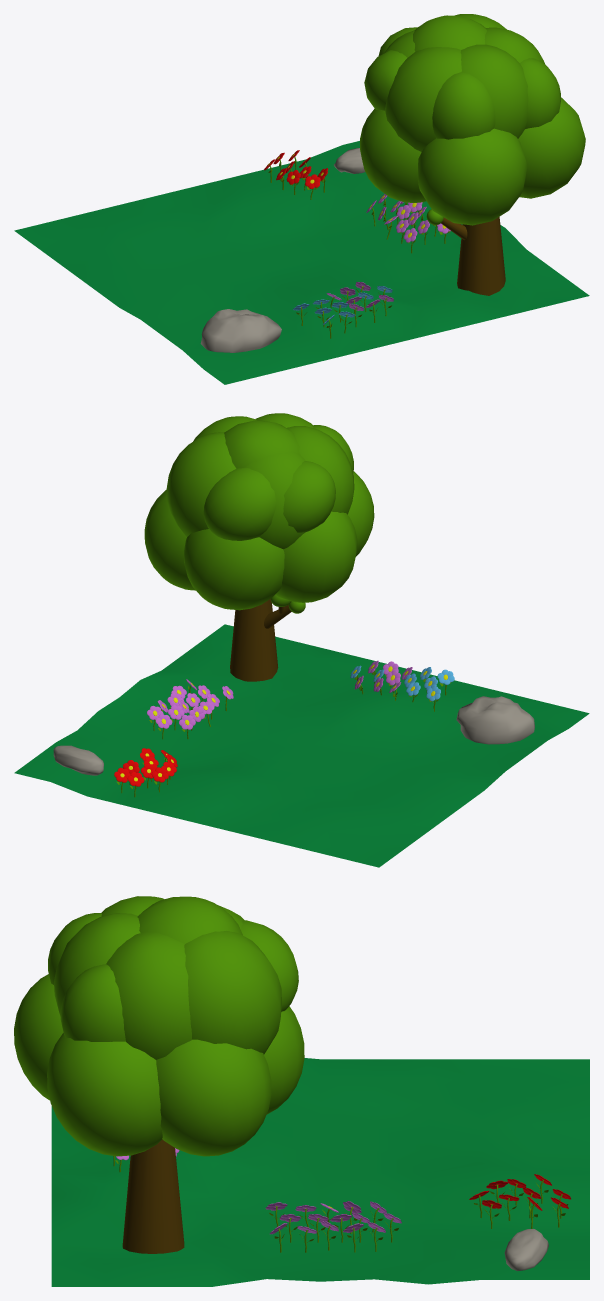
The model's file is Escenario Verde 1.fbx.
The picture shows the model from 3 angles, top to bottom: view 1: azimuth 30°, elevation 25°; view 2: azimuth 150°, elevation 25°; view 3: azimuth 270°, elevation 25°; orthographic projection. The views are drawn at different scales.
Parts seen in each view (by area): view 1: pasto, pCylinder4, pSphere23, polySurface43; view 2: pasto, pCylinder4, pSphere23, polySurface43; view 3: pasto, pCylinder4, pSphere23.
Part boxes in pixels (x1,y1,x2,y2): pasto: [14, 141, 589, 384]; pCylinder4: [360, 14, 585, 295]; pSphere23: [200, 148, 365, 352]; polySurface43: [293, 282, 393, 338]; pasto: [14, 624, 589, 867]; pCylinder4: [144, 413, 374, 681]; pSphere23: [53, 696, 534, 775]; polySurface43: [350, 660, 454, 711]; pasto: [51, 1058, 589, 1286]; pCylinder4: [14, 896, 304, 1253]; pSphere23: [504, 1229, 548, 1271].
Bounding box in the file's own units: 31.15 × 21.24 × 32.09.
